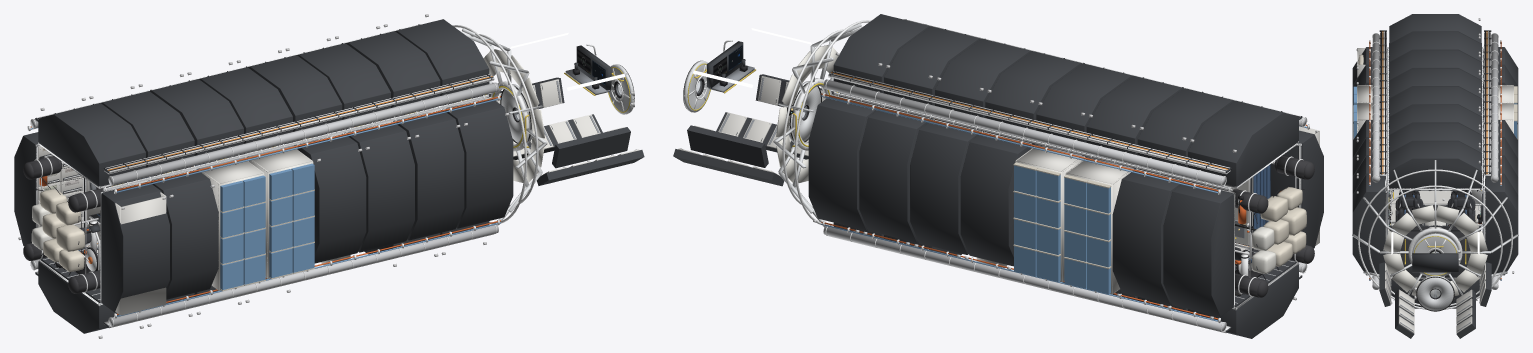
File: alcion_hx4_interior.glb
3 views of the same model, side by side, from view 1: azimuth 30°, elevation 25°; view 2: azimuth 150°, elevation 25°; view 3: azimuth 270°, elevation 25° (orthographic). The views are drawn at different scales.
Visible parts, largest first — view 1: HAB.INT.D.SH.BDY, HAB.INT.B.SE1.BDY, HAB.INT.A.S2.BDY, HAB.INT.A.SW.BDY, HAB.INT.B.SE2.BDY, HAB.INT.D.SO.BDY, HAB.INT.D.CL2.BDY, HAB.INT.C.CQ3.WTR, HAB.INT.C.CQ4.WTR, HAB.INT.A.BHD, HAB.UTL.C2.DCT, FWD.INT.STW.BCK (+29 smaller); view 2: HAB.INT.D.PS.BDY, HAB.INT.B.PF.BDY, HAB.INT.D.PG.BDY, HAB.INT.A.PW.BDY, HAB.INT.A.P2.BDY, HAB.INT.B.PG.BDY, HAB.INT.D.CL2.BDY, HAB.INT.C.CQ1.WTR, HAB.INT.C.CQ2.WTR, HAB.INT.A.BHD, HAB.UTL.C1.DCT, FWD.INT.STW.BCK (+30 smaller); view 3: HAB.INT.A.BHD, HAB.INT.A.CL1.BDY, HAB.INT.A.PW.BDY, HAB.INT.A.SW.BDY, HAB.INT.B.CL2.BDY, HAB.INT.C.CE2.BDY, HAB.INT.D.CL1.BDY, HAB.INT.A.CL2.BDY, HAB.INT.B.CL1.BDY, HAB.INT.C.CE1.BDY, HAB.INT.D.CL2.BDY, FWD.INT.STW.BCK (+45 smaller).
Boxes of the visible parts, left/top/right/bottom form: HAB.INT.D.SH.BDY: left=100, top=181, right=169, bottom=312; HAB.INT.B.SE1.BDY: left=296, top=133, right=366, bottom=263; HAB.INT.A.S2.BDY: left=395, top=109, right=464, bottom=240; HAB.INT.A.SW.BDY: left=443, top=97, right=513, bottom=228; HAB.INT.B.SE2.BDY: left=345, top=121, right=414, bottom=252; HAB.INT.D.SO.BDY: left=149, top=169, right=218, bottom=299; HAB.INT.D.CL2.BDY: left=38, top=98, right=145, bottom=188; HAB.INT.C.CQ3.WTR: left=220, top=175, right=265, bottom=291; HAB.INT.C.CQ4.WTR: left=269, top=163, right=314, bottom=279; HAB.INT.A.BHD: left=452, top=25, right=547, bottom=225; HAB.UTL.C2.DCT: left=108, top=82, right=498, bottom=186; FWD.INT.STW.BCK: left=487, top=77, right=644, bottom=185; HAB.INT.D.PS.BDY: left=1163, top=181, right=1235, bottom=319; HAB.INT.B.PF.BDY: left=960, top=131, right=1032, bottom=269; HAB.INT.D.PG.BDY: left=1112, top=168, right=1184, bottom=307; HAB.INT.A.PW.BDY: left=808, top=94, right=880, bottom=232; HAB.INT.A.P2.BDY: left=859, top=106, right=931, bottom=245; HAB.INT.B.PG.BDY: left=910, top=119, right=981, bottom=257; HAB.INT.D.CL2.BDY: left=1188, top=100, right=1299, bottom=189; HAB.INT.C.CQ1.WTR: left=1064, top=174, right=1111, bottom=294; HAB.INT.C.CQ2.WTR: left=1013, top=162, right=1060, bottom=281; HAB.INT.A.BHD: left=773, top=20, right=871, bottom=227; HAB.UTL.C1.DCT: left=823, top=79, right=1226, bottom=186; FWD.INT.STW.BCK: left=673, top=74, right=834, bottom=186; HAB.INT.A.BHD: left=1352, top=160, right=1518, bottom=309; HAB.INT.A.CL1.BDY: left=1389, top=141, right=1481, bottom=189; HAB.INT.A.PW.BDY: left=1483, top=174, right=1518, bottom=275; HAB.INT.A.SW.BDY: left=1352, top=174, right=1387, bottom=275; HAB.INT.B.CL2.BDY: left=1389, top=105, right=1481, bottom=151; HAB.INT.C.CE2.BDY: left=1389, top=68, right=1481, bottom=114; HAB.INT.D.CL1.BDY: left=1389, top=32, right=1481, bottom=78; HAB.INT.A.CL2.BDY: left=1389, top=123, right=1481, bottom=169; HAB.INT.B.CL1.BDY: left=1389, top=86, right=1481, bottom=133; HAB.INT.C.CE1.BDY: left=1389, top=50, right=1481, bottom=96; HAB.INT.D.CL2.BDY: left=1389, top=14, right=1481, bottom=60; FWD.INT.STW.BCK: left=1379, top=262, right=1491, bottom=338.
Size of the model in its own units: 12.01 by 4.04 by 3.97.
Materials: 46 (7 with a texture image).
